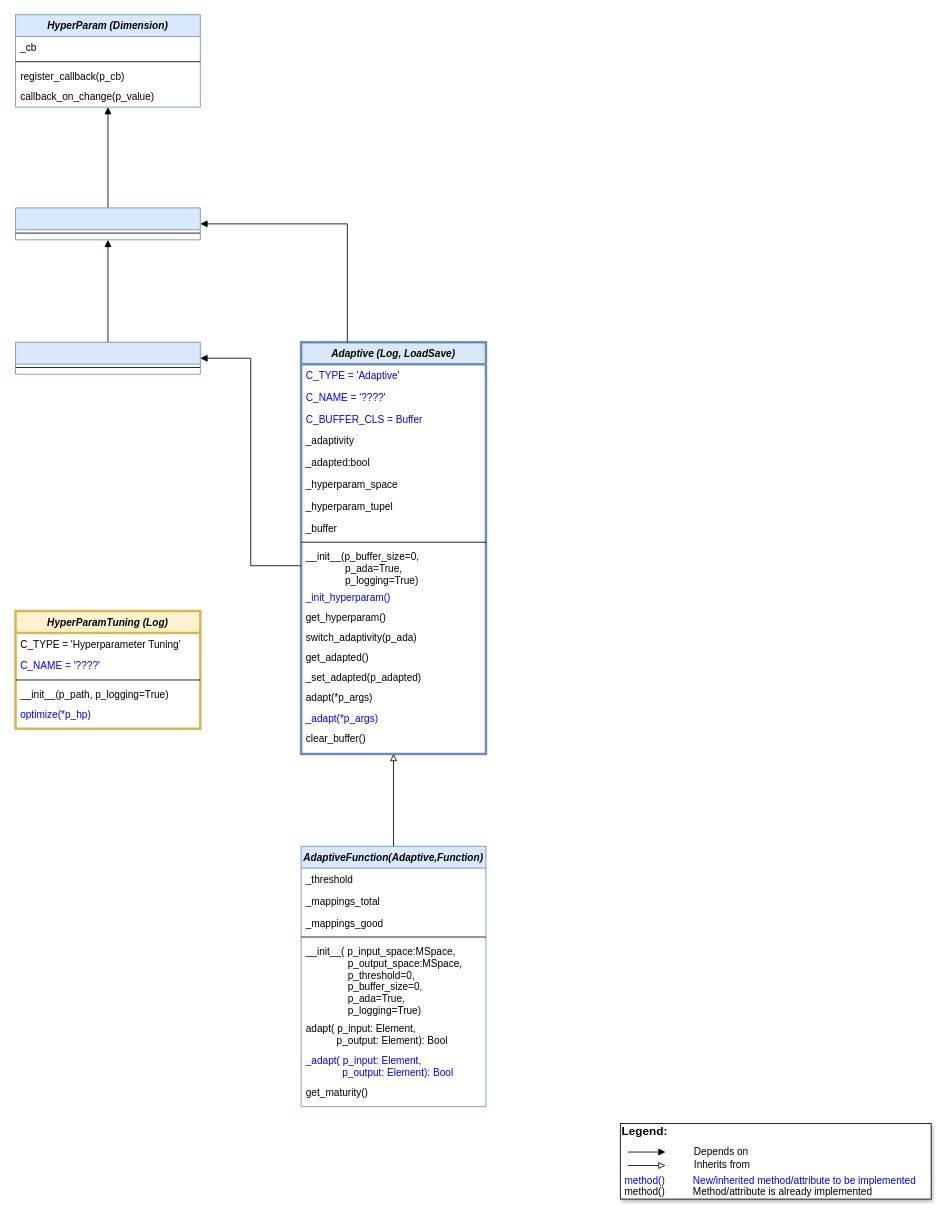
The diagram is 951 pixels wide and 1220 high, and some of its shapes have lost their labels. The centre of each missing label's shape, as x and y in pixels:
"HyperParamSpace (ESpace)" belongs at point (107, 223).
"HyperParamTupel (Element)" belongs at point (107, 357).
